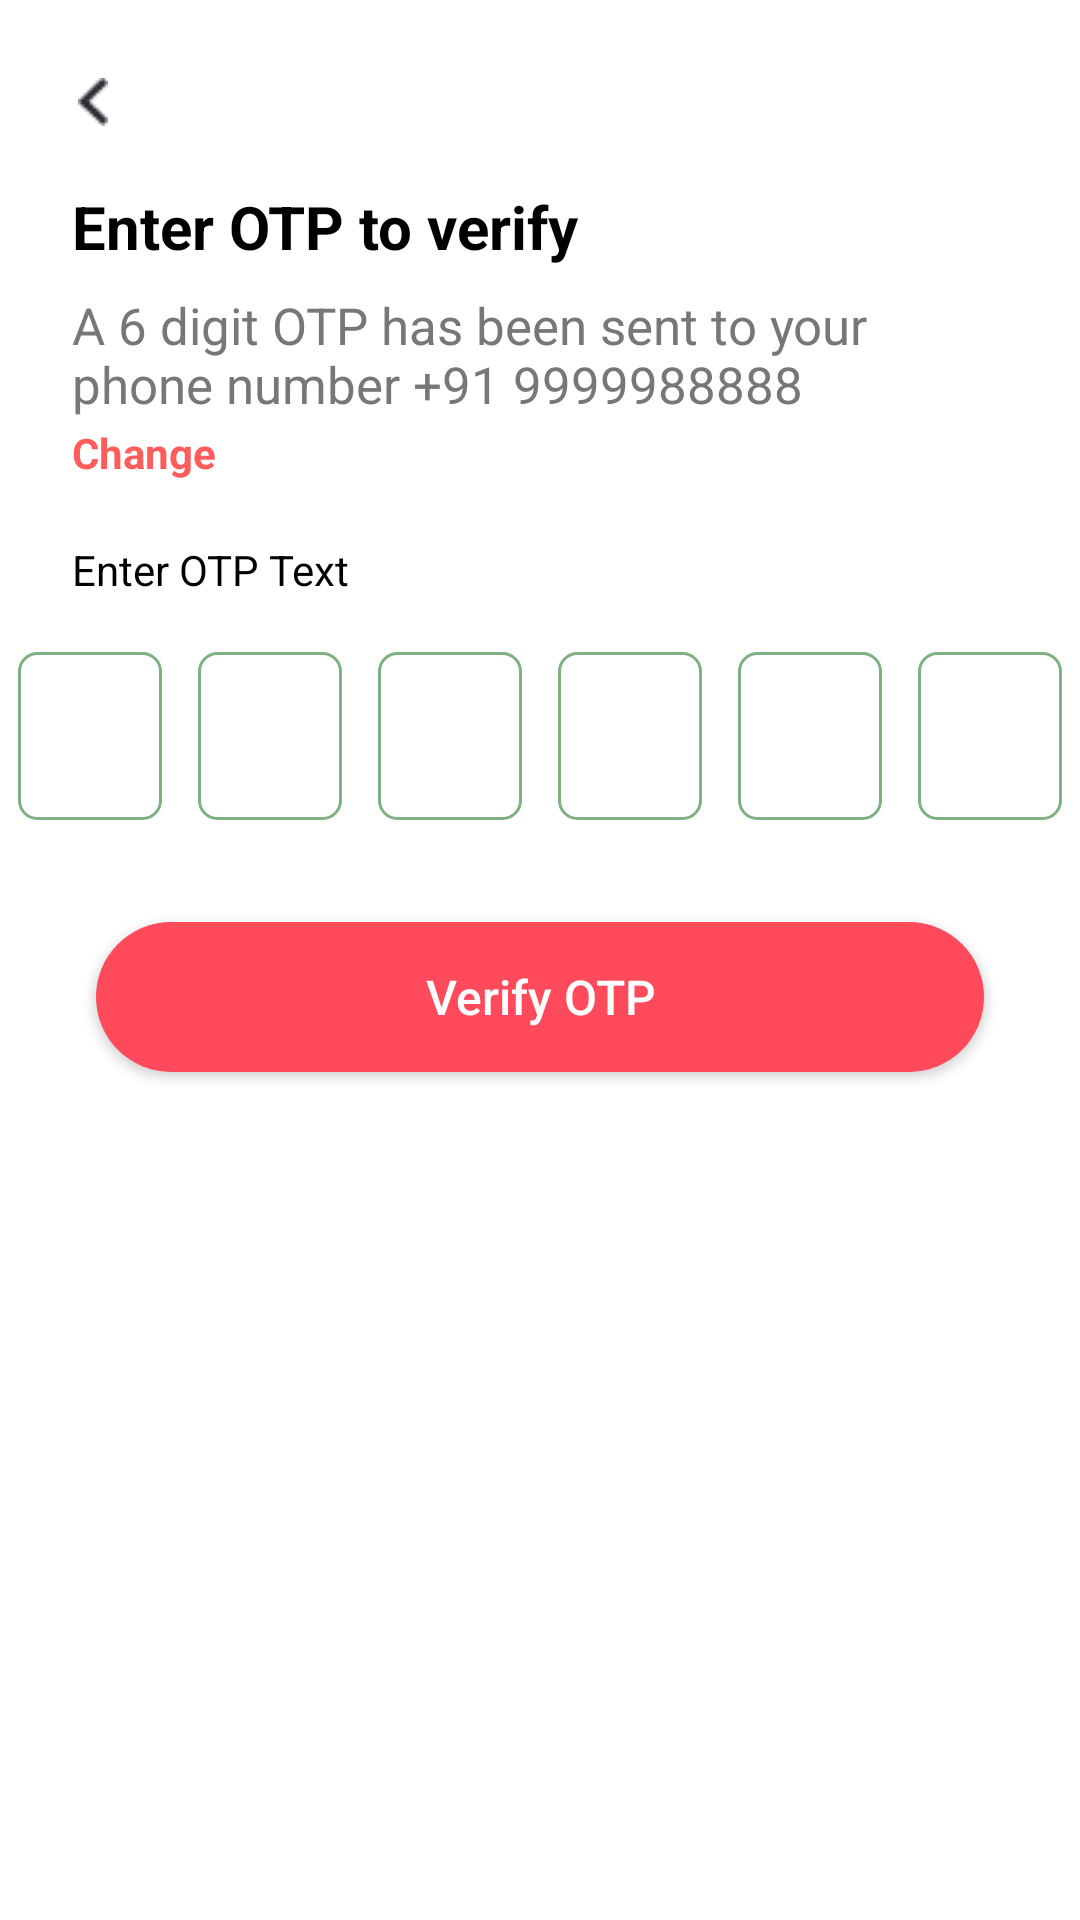

Locate icon controls on the screen. Image size 1080 x 1920, boxes as (x1, y1, x2, y2).
Back: (78, 78, 108, 126)
